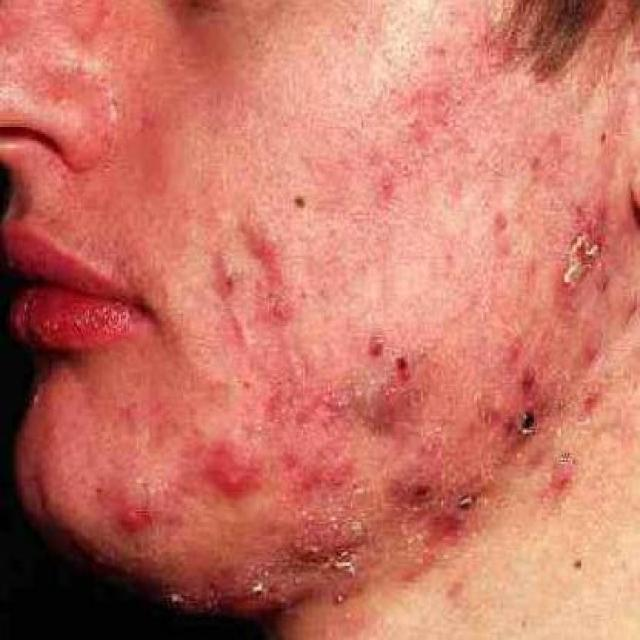blackheads: (494, 398, 557, 442), (358, 323, 402, 365), (209, 254, 248, 296)
papules: (371, 444, 469, 527), (96, 469, 186, 554), (342, 354, 426, 432), (283, 432, 368, 501), (288, 508, 374, 575), (189, 425, 260, 501)
pustules: (543, 212, 625, 308), (232, 557, 282, 601)
